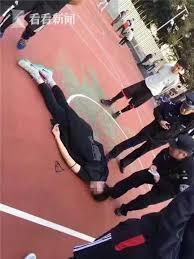Fall-Detected: (10, 48, 118, 205)
